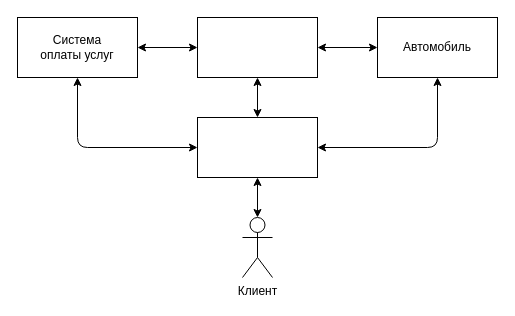
Image size: 515x316. Some labels were removed from this diagram. The shapes that lost their labels are listed below. From the top down, each one's centre as x and y in pixels, then its label:
At pixel 257 47: "Система управления парком автомобилей".
At pixel 257 147: "Мобильное приложение клиента".
